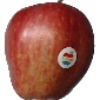apple: (5, 3, 94, 100)
